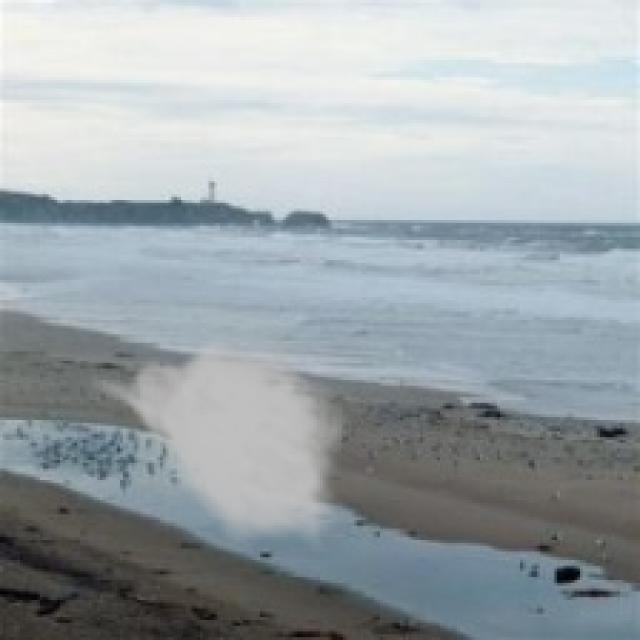smoke: (80, 332, 349, 554)
